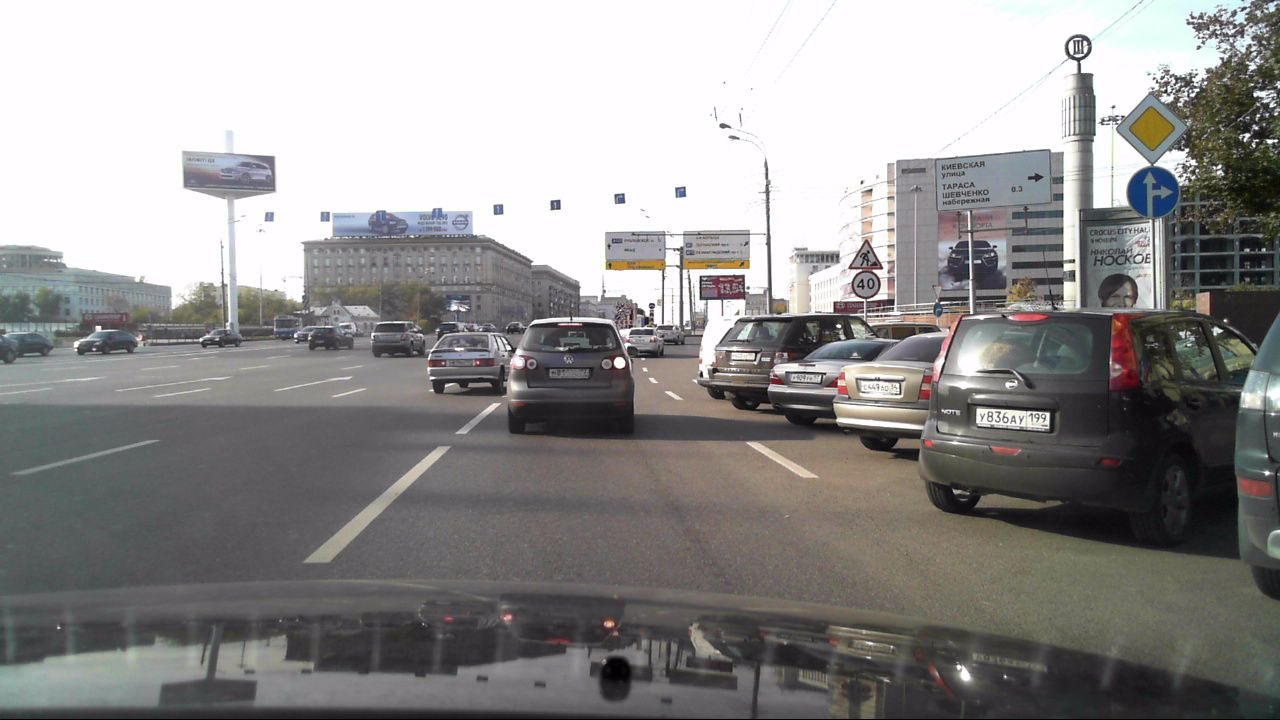speed_warning_40: (851, 270, 882, 300)
